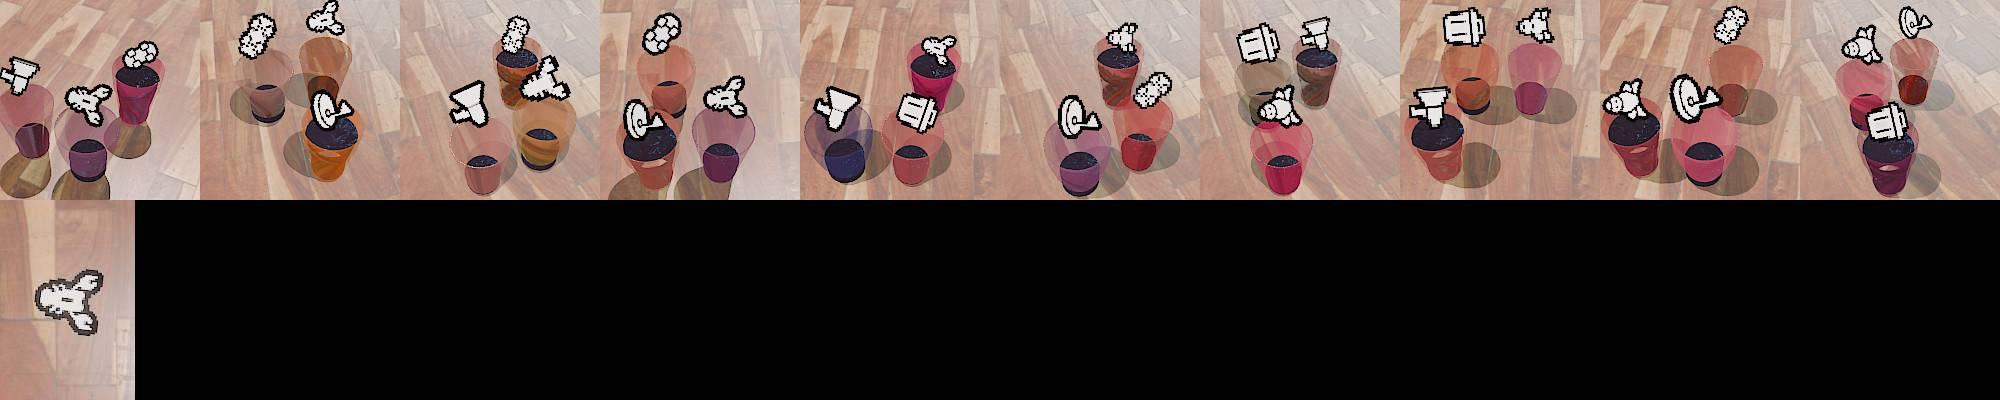icon: (33, 268, 105, 336), (1670, 74, 1727, 125), (519, 56, 571, 102), (814, 84, 861, 131), (1255, 84, 1305, 129), (1057, 93, 1103, 139), (1602, 76, 1649, 121), (64, 84, 112, 127), (703, 74, 749, 118), (309, 89, 355, 131), (448, 80, 490, 126), (1236, 22, 1281, 64), (1443, 6, 1487, 48), (1865, 101, 1909, 143), (237, 13, 277, 60), (897, 92, 940, 134), (1409, 85, 1453, 126), (642, 11, 682, 55), (1133, 70, 1175, 111), (0, 56, 42, 97), (1841, 23, 1881, 64), (1515, 6, 1555, 45), (1712, 5, 1749, 46), (305, 0, 344, 37), (624, 97, 654, 139), (1105, 20, 1140, 56), (921, 34, 958, 68), (1300, 15, 1332, 52), (500, 15, 529, 55), (1899, 6, 1934, 39), (121, 41, 159, 70)
